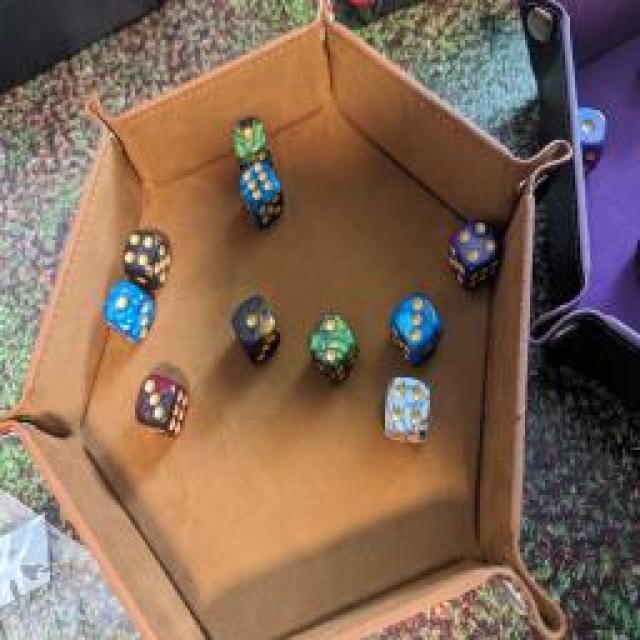dice_1: (100, 278, 155, 348), (230, 292, 282, 366), (570, 104, 610, 171), (230, 114, 272, 176)
dice_2: (306, 306, 359, 386)
dice_3: (386, 287, 446, 365), (132, 370, 190, 445)
dice_4: (380, 375, 438, 450), (448, 212, 498, 286), (122, 224, 172, 291)
dice_6: (235, 159, 287, 231)
